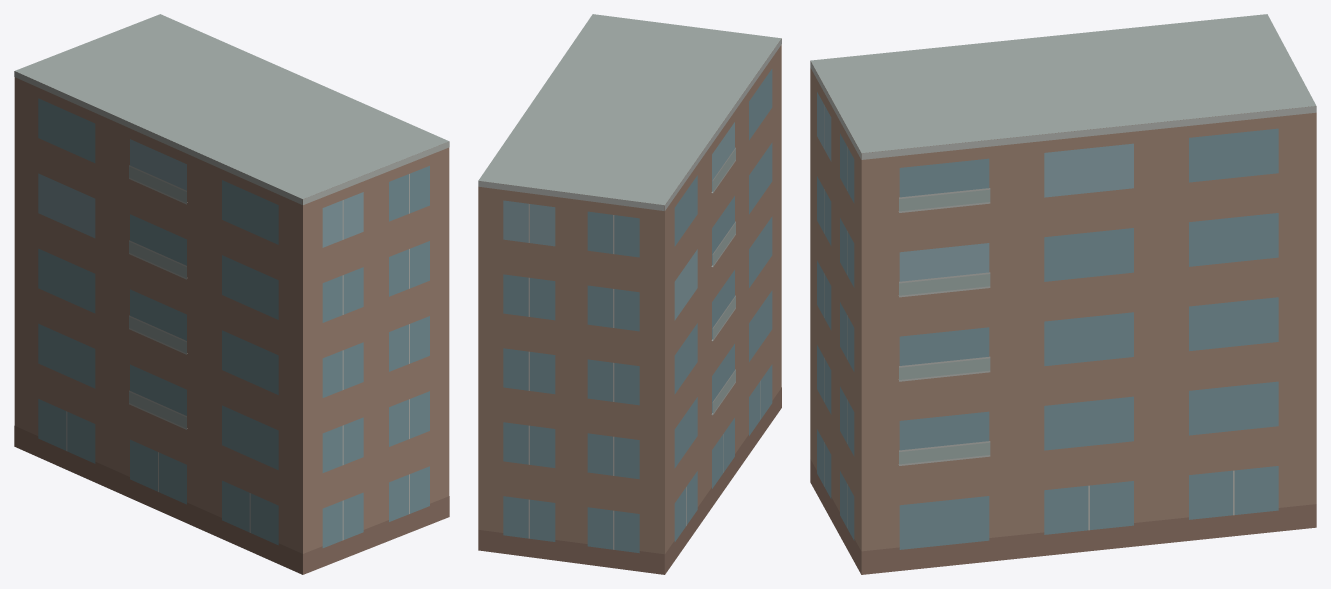
File: survey-upis-33041153.glb
The picture shows the model from 3 angles, left to right: view 1: azimuth 30°, elevation 25°; view 2: azimuth 150°, elevation 25°; view 3: azimuth 270°, elevation 25°; orthographic projection. The views are drawn at different scales.
Parts seen in each view (by area): view 1: survey-upis-33041153.tmp; view 2: survey-upis-33041153.tmp; view 3: survey-upis-33041153.tmp.
Part boxes in pixels (left/top/right/bottom): survey-upis-33041153.tmp: left=14, top=14, right=449, bottom=574; survey-upis-33041153.tmp: left=478, top=14, right=781, bottom=574; survey-upis-33041153.tmp: left=810, top=14, right=1316, bottom=574.
Size of the model in its own units: 10.77 by 15.2 by 16.55.
